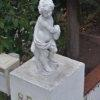Statue: (21, 0, 73, 78)
